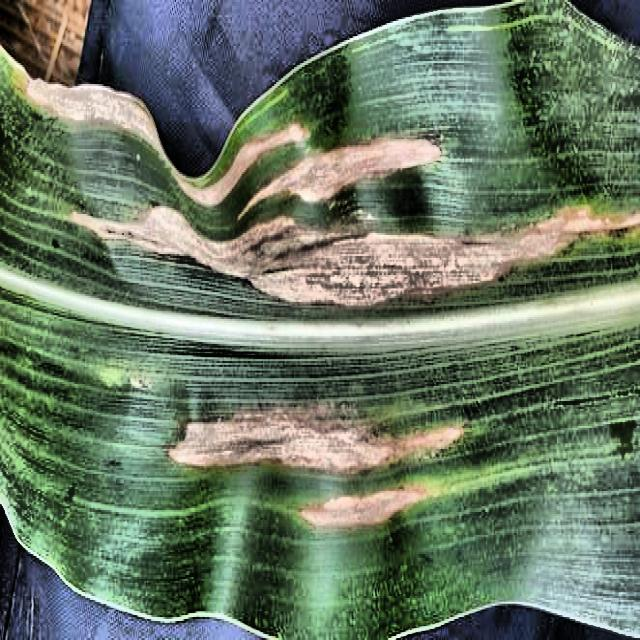blight: (0, 39, 640, 619)
